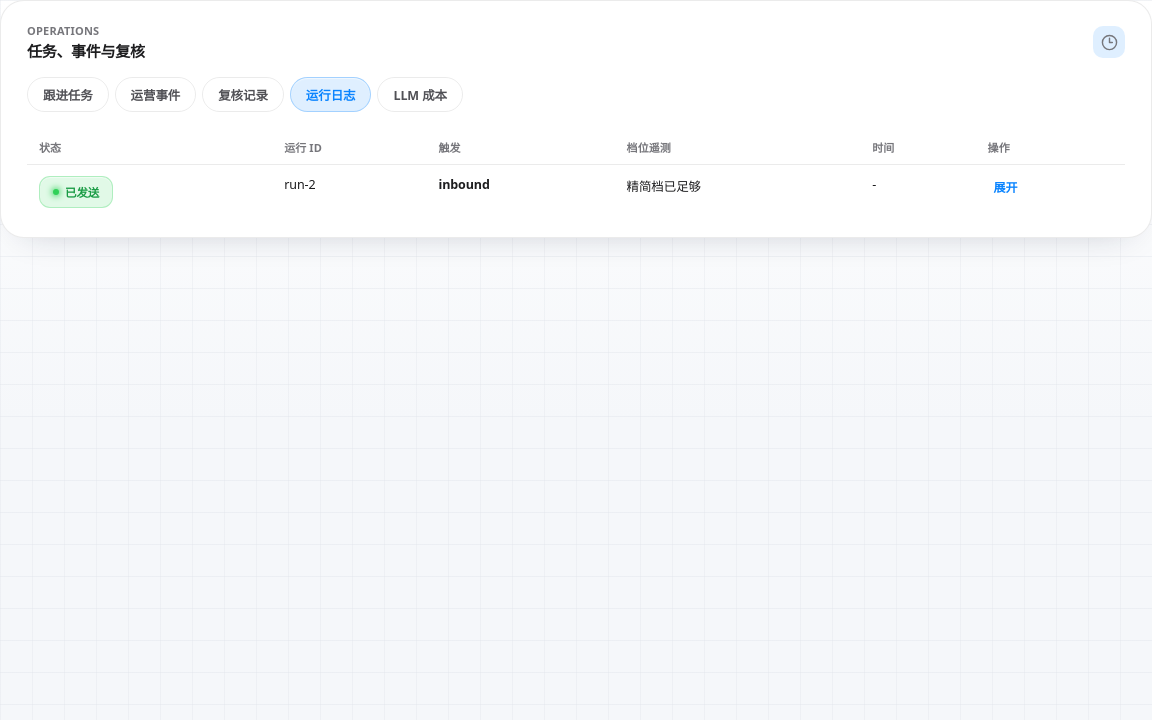
Test: 运行日志 runs tab + tier 遥测(C6+C9) › 展开后显式列出 tier 遥测三字段(档位/充分性/是否升档)
Click the button "展开" at (1006, 187), box [988, 176, 1023, 198]
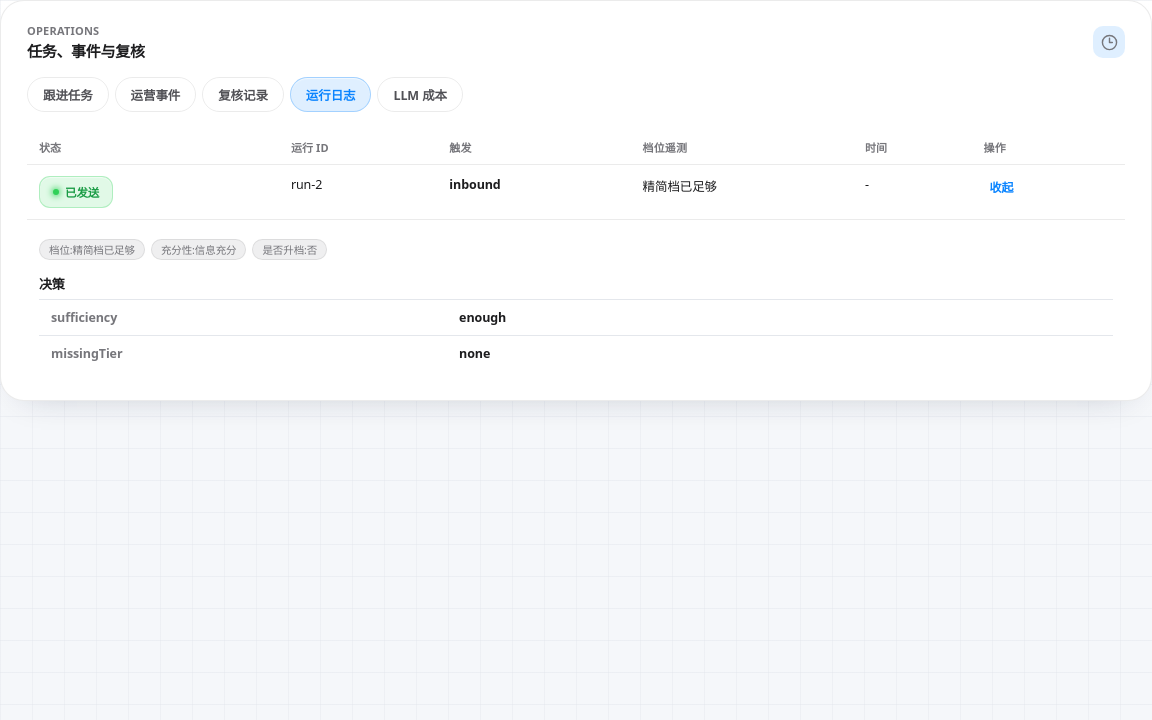
Check: the text "充分性:信息充分" is shown, box [151, 239, 246, 260]
Check: the text "是否升档:否" is shown, box [252, 239, 327, 260]
Check: the text "missingTier" is shown, box [39, 336, 447, 371]
